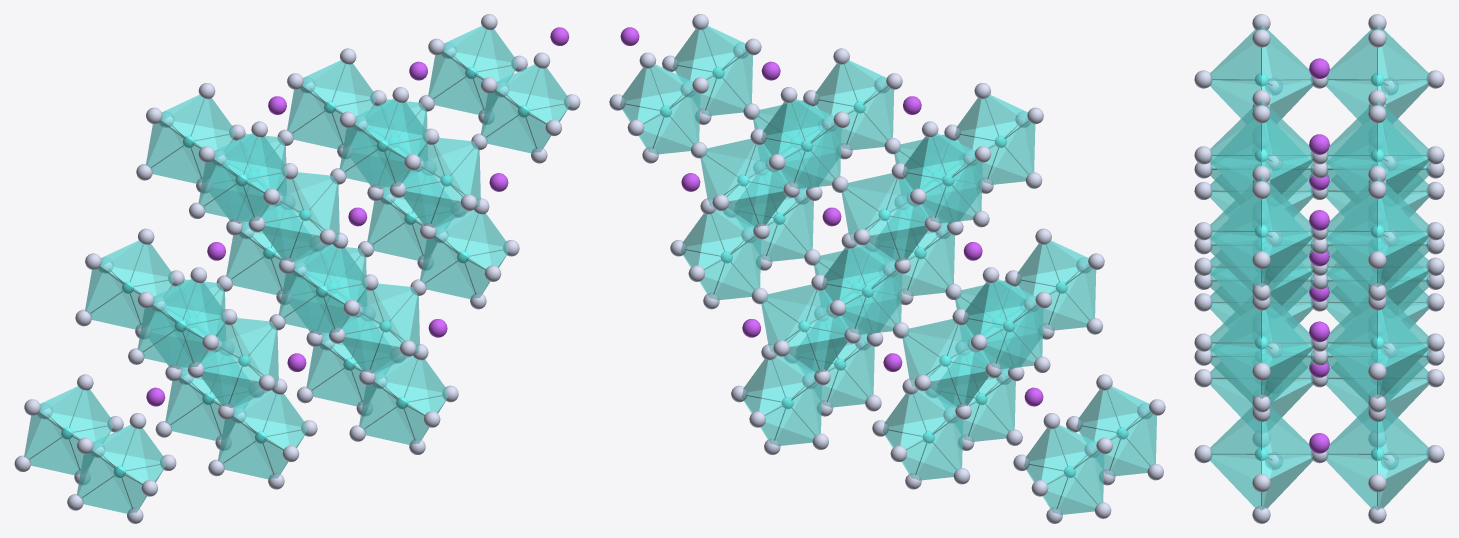
The model's file is KYb2F7.glb.
3 renders of one model, left to right at view 1: azimuth 30°, elevation 25°; view 2: azimuth 150°, elevation 25°; view 3: azimuth 270°, elevation 25°, orthographic. The views are drawn at different scales.
Parts seen in each view (by area): view 1: Shape_IndexedFaceSet, atom2_IndexedFaceSet, Shape_Cylinder, atom1_IndexedFaceSet, atom0_IndexedFaceSet; view 2: Shape_IndexedFaceSet, atom2_IndexedFaceSet, Shape_Cylinder, atom1_IndexedFaceSet, atom0_IndexedFaceSet; view 3: Shape_IndexedFaceSet, atom2_IndexedFaceSet, atom0_IndexedFaceSet, Shape_Cylinder, atom1_IndexedFaceSet.
Boxes of the visible parts, x1,y1,x2,y2 form: Shape_IndexedFaceSet: (24,26,569,513); atom2_IndexedFaceSet: (14,14,580,523); Shape_Cylinder: (29,30,564,509); atom1_IndexedFaceSet: (61,67,529,477); atom0_IndexedFaceSet: (146,27,569,406); Shape_IndexedFaceSet: (620,26,1156,514); atom2_IndexedFaceSet: (609,14,1165,523); Shape_Cylinder: (624,30,1150,508); atom1_IndexedFaceSet: (660,67,1128,477); atom0_IndexedFaceSet: (620,27,1043,406); Shape_IndexedFaceSet: (1210,25,1429,510); atom2_IndexedFaceSet: (1194,14,1444,523); atom0_IndexedFaceSet: (1309,58,1329,453); Shape_Cylinder: (1212,47,1426,505); atom1_IndexedFaceSet: (1255,73,1383,460).
Size of the model in its own units: 24.07 by 16.38 by 9.1.
